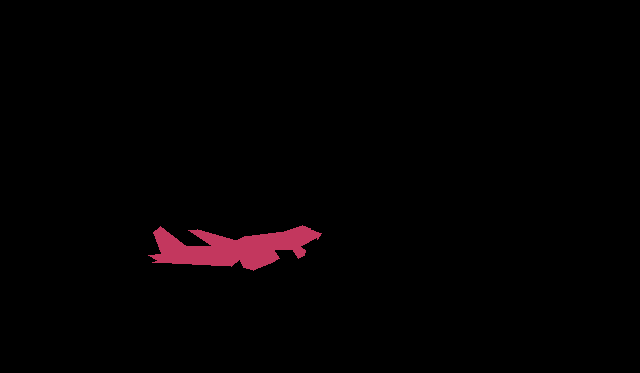Airplane: (148, 225, 322, 270)
